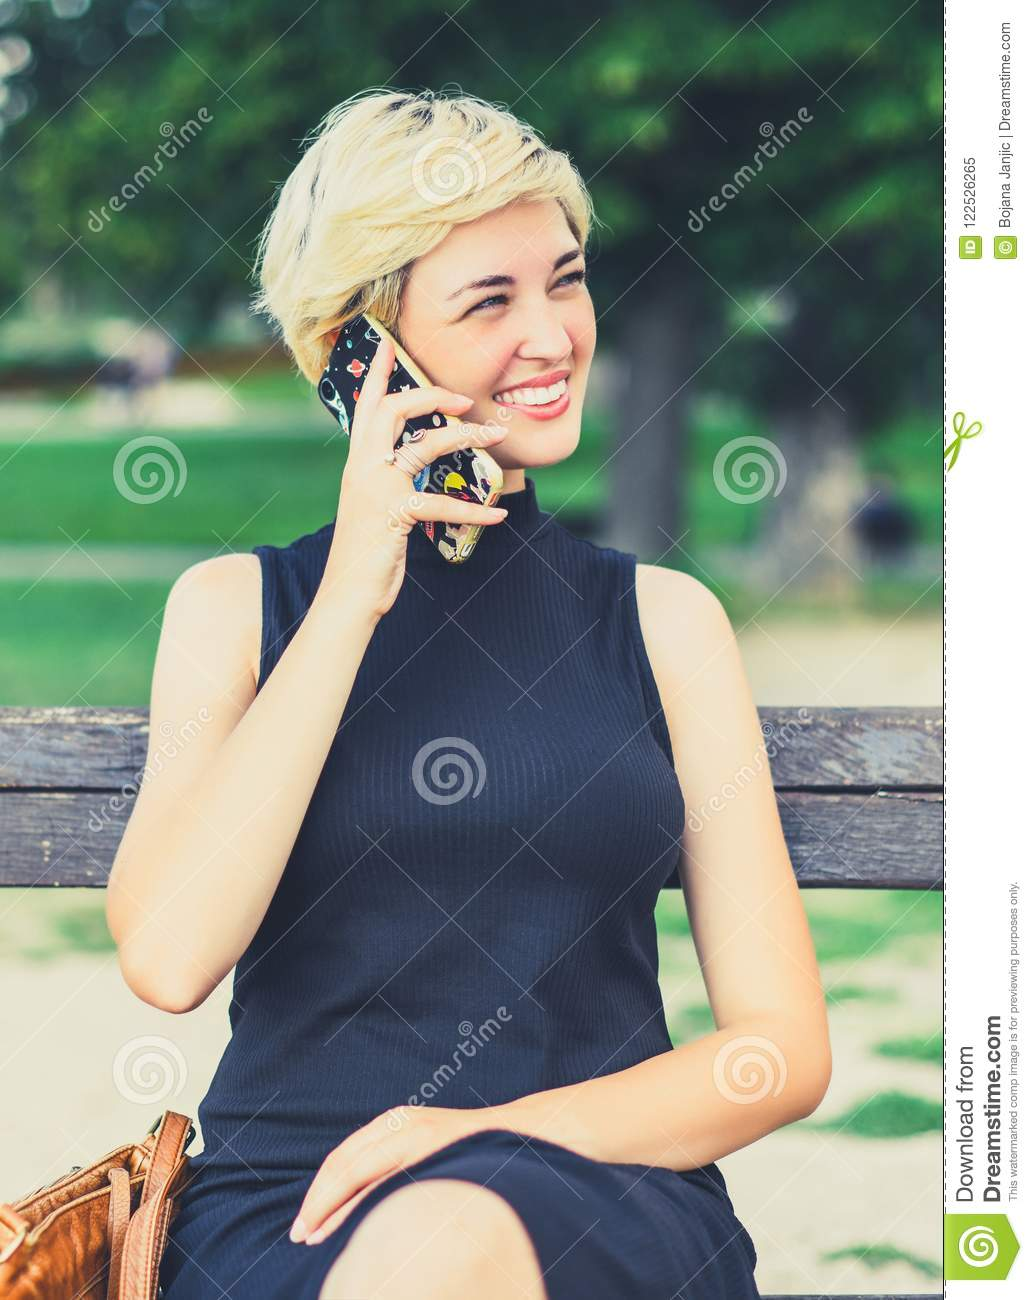phone: (314, 310, 503, 565)
talk: (315, 237, 595, 618)
